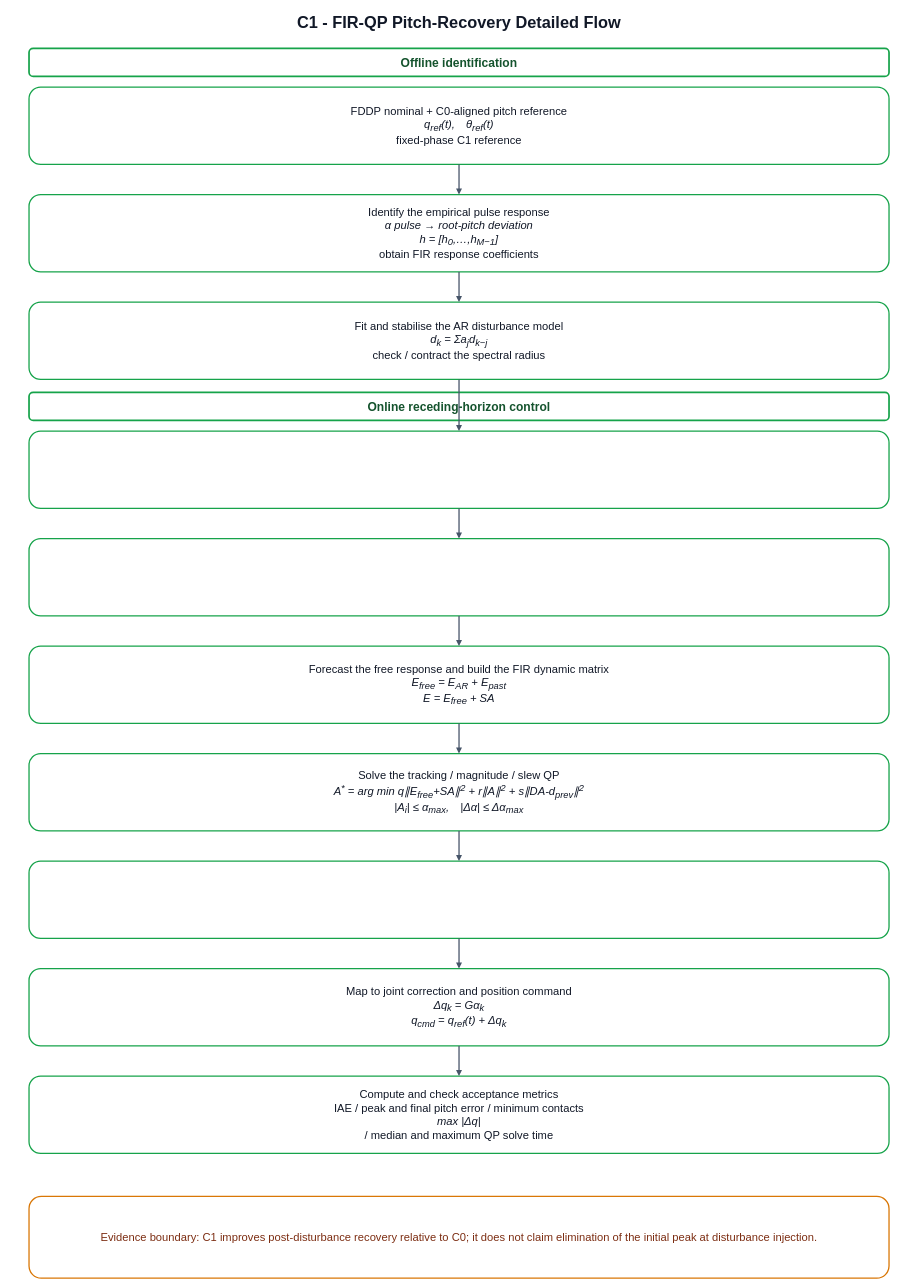
Some shapes in this 918 by 1286 pixel diagram are drawn without their labels. The shapes that lost their labels are listed below. From the top down, each one's centre as x and y in pixels, then its label:
At (458,469): "Measure pitch and form the reference-aligned error e k = θ meas,k − θ ref (t)".
At (458,577): "Subtract the known delayed response of past commands d k = e k − Σh i α k−i".
At (458,899): "Apply only the first element of the optimal sequence α k = A 0 *".
